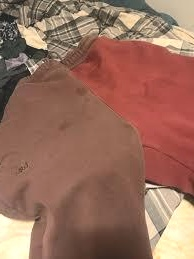oil: (17, 159, 32, 174), (58, 121, 72, 133), (72, 91, 82, 100)
